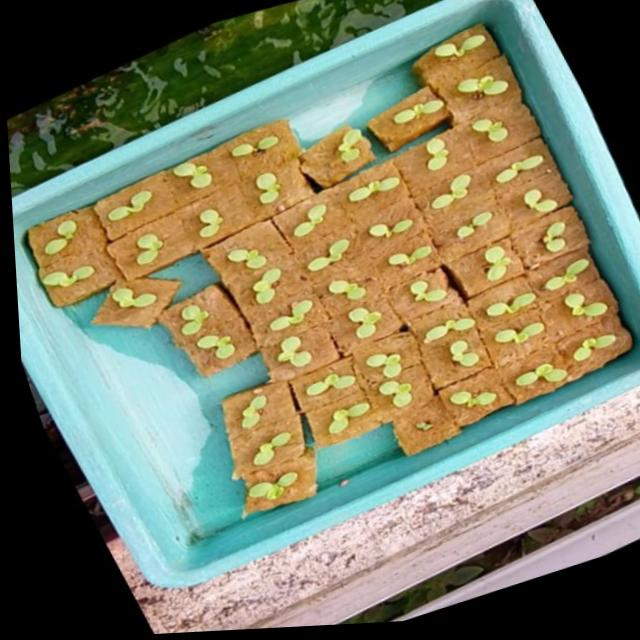Baby: (115, 271, 177, 314), (461, 105, 529, 143), (38, 210, 99, 252), (457, 202, 514, 239), (106, 186, 160, 224), (555, 248, 611, 284), (414, 263, 463, 302), (316, 359, 367, 394), (246, 263, 290, 302), (64, 242, 120, 272), (555, 214, 600, 251), (273, 290, 323, 323), (176, 294, 217, 331), (435, 311, 489, 338), (441, 167, 481, 202), (257, 465, 307, 493), (506, 147, 555, 175), (317, 232, 358, 265), (498, 285, 550, 311), (262, 425, 301, 458), (529, 357, 582, 381), (586, 329, 631, 356), (341, 400, 381, 430), (287, 329, 323, 361), (359, 300, 393, 332), (496, 240, 527, 275), (181, 156, 220, 183), (376, 211, 425, 232), (397, 239, 442, 261), (377, 346, 414, 372), (235, 239, 275, 263), (579, 287, 622, 309), (207, 330, 244, 355), (390, 372, 423, 400), (146, 227, 174, 258), (534, 183, 570, 207), (251, 388, 277, 421), (263, 166, 289, 198), (461, 335, 493, 361), (462, 385, 510, 402), (435, 131, 459, 164), (337, 274, 376, 294), (519, 317, 557, 337), (206, 202, 231, 231), (308, 199, 333, 228)
